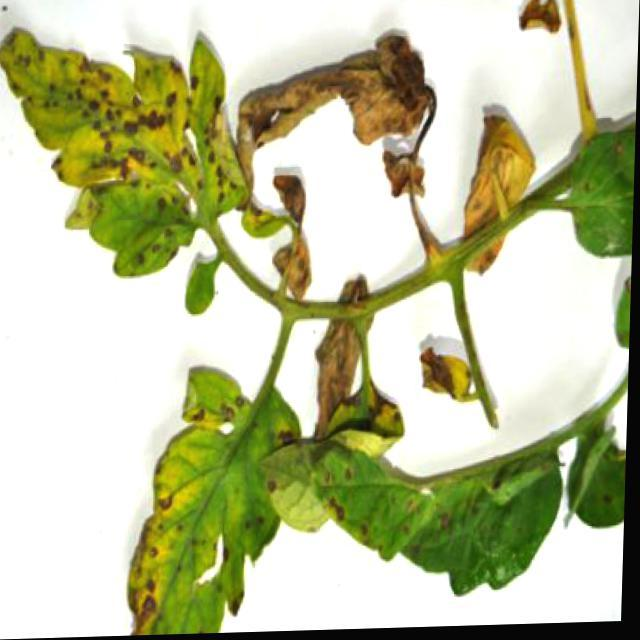Tomato Septoria spot leaf: (256, 396, 582, 613), (0, 15, 251, 278), (124, 352, 320, 636)
